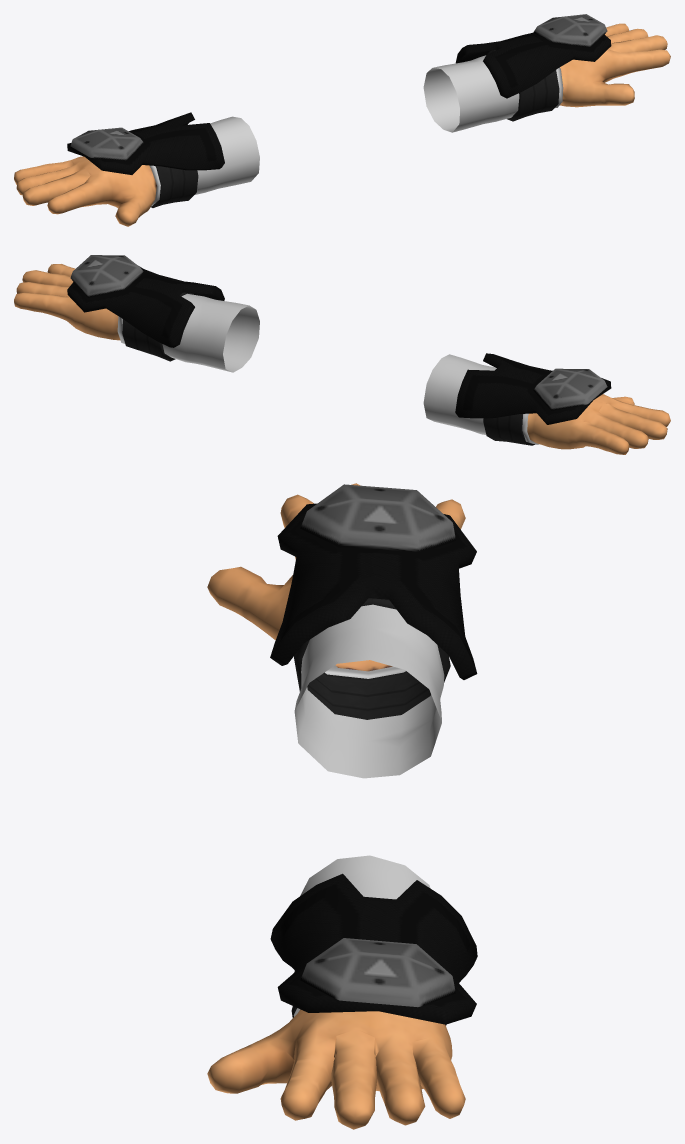
3 views of the same model, one above another, from view 1: azimuth 30°, elevation 25°; view 2: azimuth 150°, elevation 25°; view 3: azimuth 270°, elevation 25° (orthographic). The views are drawn at different scales.
Parts seen in each view (by area): view 1: model_0_submesh_0, model_0_submesh_2, model_0_submesh_1; view 2: model_0_submesh_0, model_0_submesh_2, model_0_submesh_1; view 3: model_0_submesh_0, model_0_submesh_2, model_0_submesh_1.
Part boxes in pixels (x1,y1,x2,y2): model_0_submesh_0: (67, 14, 611, 207); model_0_submesh_2: (14, 23, 670, 226); model_0_submesh_1: (149, 55, 563, 206); model_0_submesh_0: (67, 255, 611, 445); model_0_submesh_2: (14, 264, 670, 454); model_0_submesh_1: (117, 293, 538, 444); model_0_submesh_0: (270, 484, 477, 1025); model_0_submesh_2: (207, 483, 465, 1129); model_0_submesh_1: (293, 604, 444, 1016).
Size of the model in its own units: 3.6 by 0.4249 by 0.6555.
